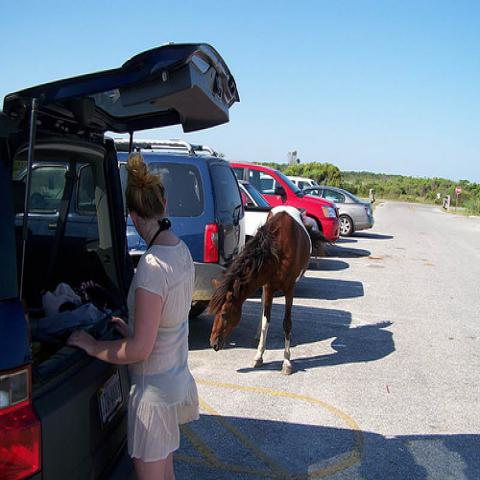car: (232, 161, 339, 241), (300, 188, 374, 239), (237, 178, 271, 237), (291, 176, 321, 190)
truck: (0, 41, 241, 479), (118, 150, 247, 317)
